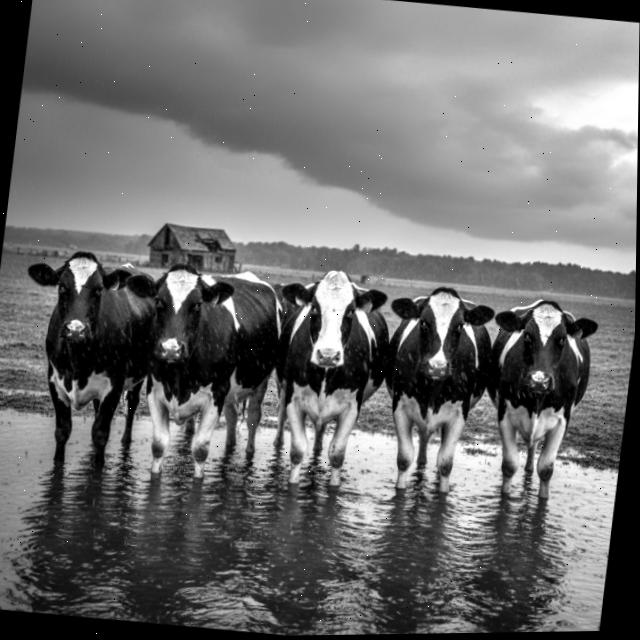cow: (102, 242, 303, 505), (0, 239, 174, 494), (246, 253, 406, 517), (359, 270, 499, 524), (467, 285, 608, 517)
